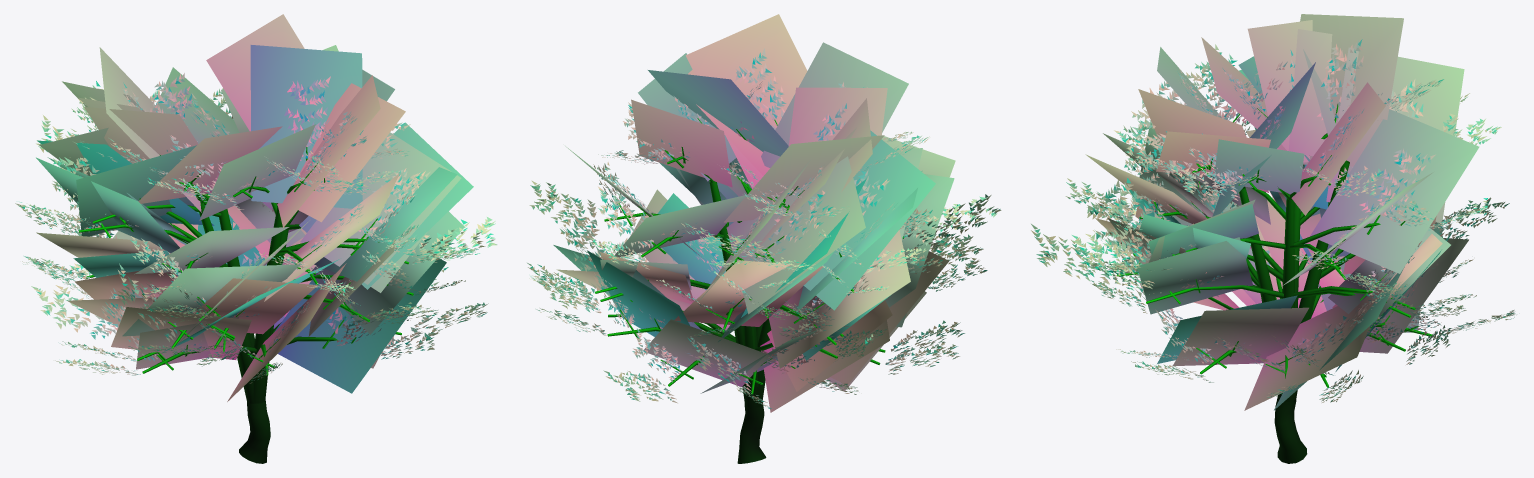
Rendered from hill_c_2.glb.
The picture shows the model from 3 angles, left to right: view 1: azimuth 30°, elevation 25°; view 2: azimuth 150°, elevation 25°; view 3: azimuth 270°, elevation 25°; orthographic projection. The views are drawn at different scales.
Parts seen in each view (by area): view 1: mid, near; view 2: mid, near; view 3: mid, near.
Boxes of the visible parts, box(x1,y1,x2,y2) form: mid: box(36, 14, 473, 402); near: box(15, 73, 496, 463); mid: box(553, 14, 955, 412); near: box(527, 48, 1001, 463); mid: box(1085, 14, 1479, 410); near: box(1031, 39, 1515, 463).
Bounding box in the file's own units: 6.17 × 5.65 × 6.24.
